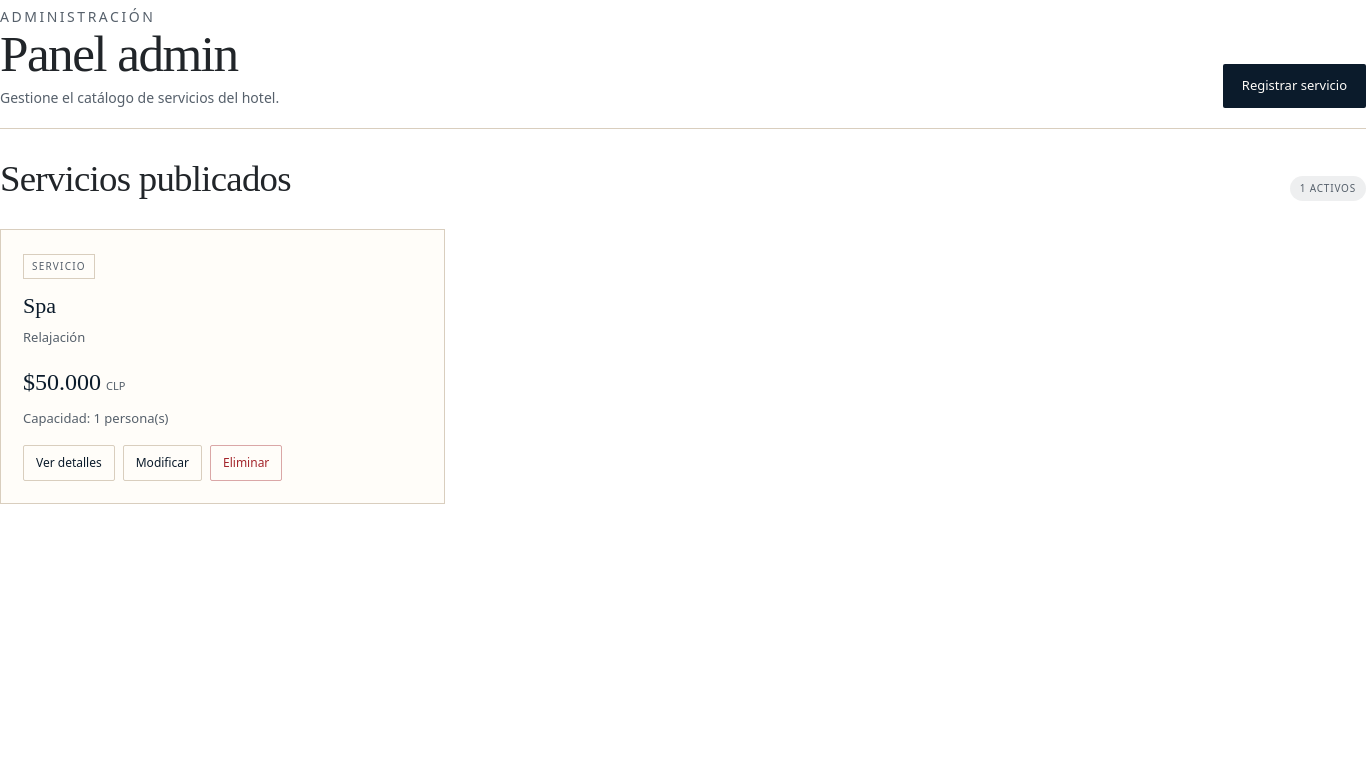
Test: Panel_admin › abre el formulario de registro
The image size is (1366, 768).
Click the button "Registrar servicio".
click(1294, 86)  # box [1223,64,1365,108]
(page scrolled)
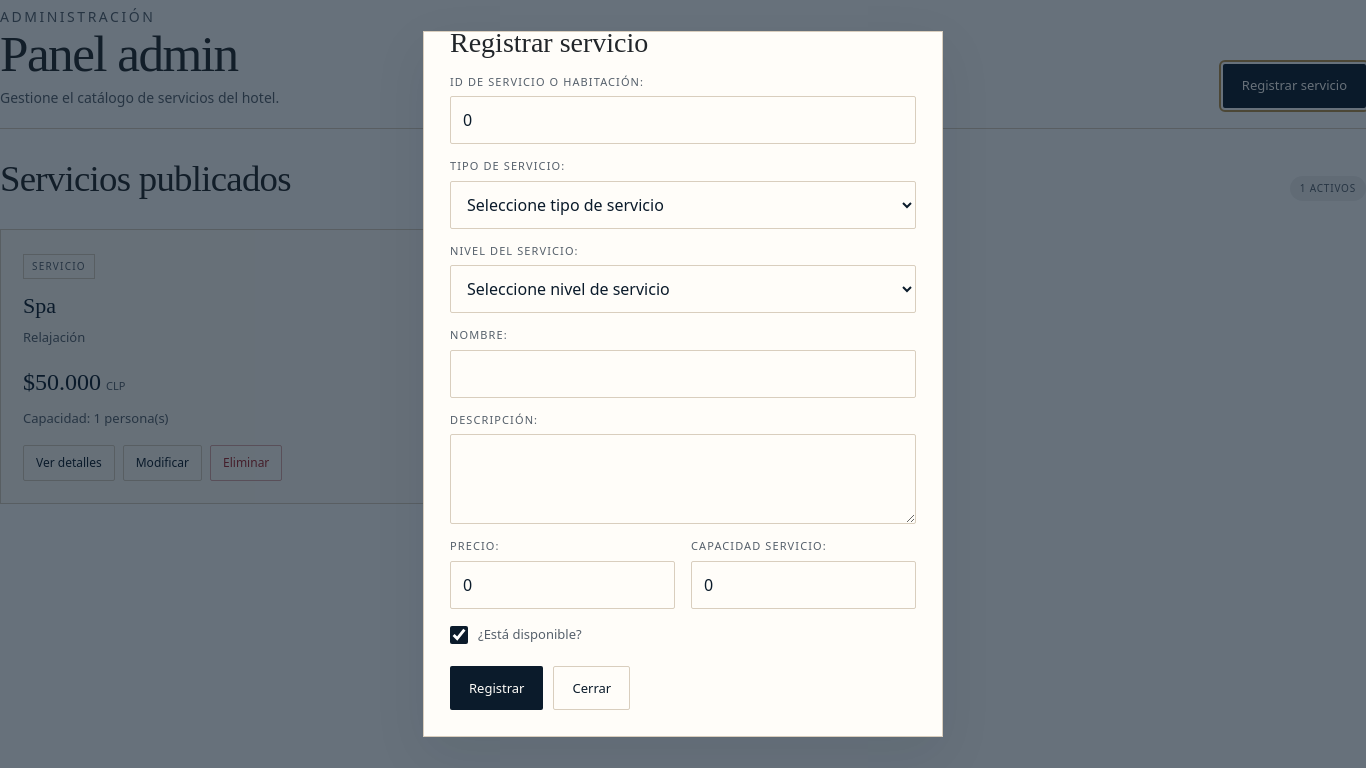
Expected: the button "Cerrar" is shown, [554,666,630,710]
